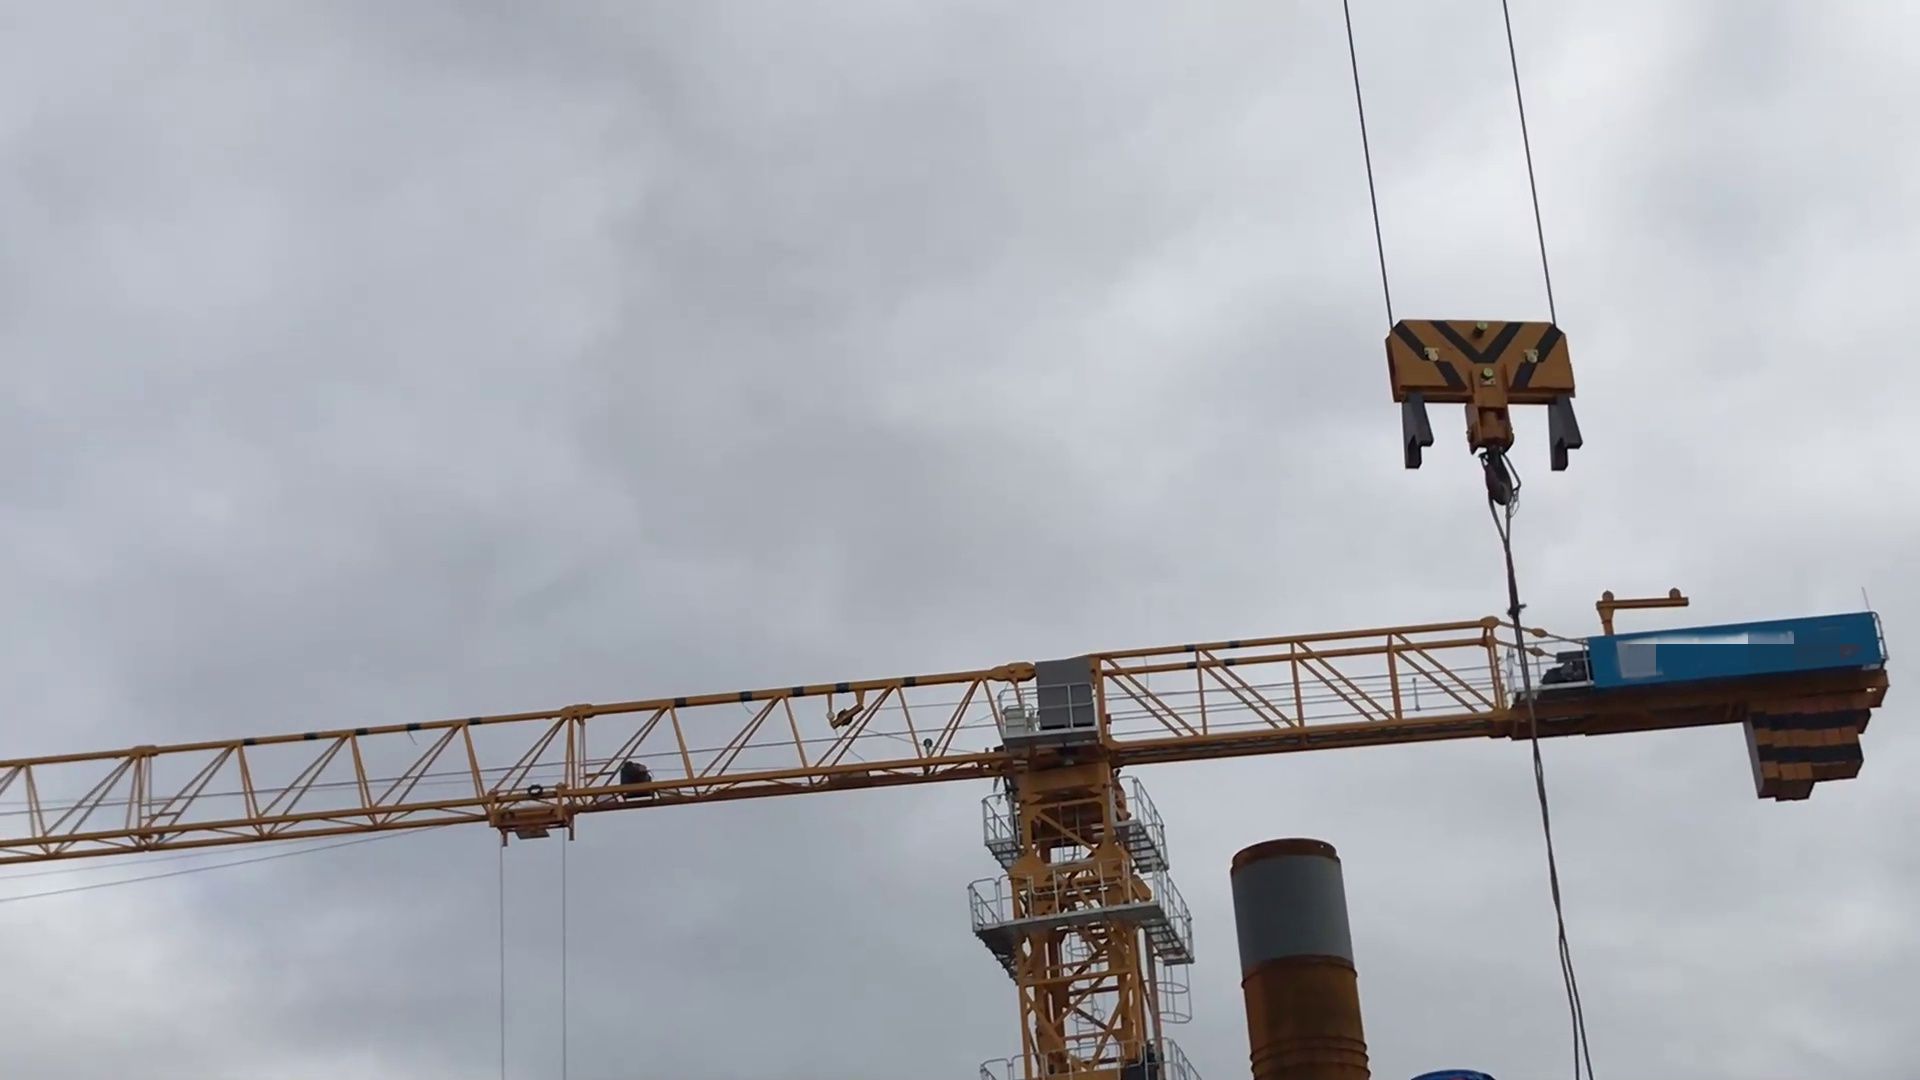hook: (1373, 306, 1592, 516)
